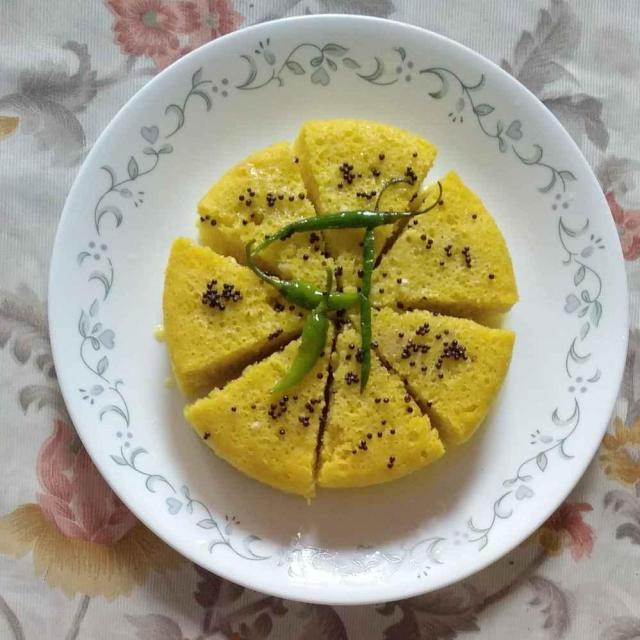dhokla: (160, 119, 525, 491)
